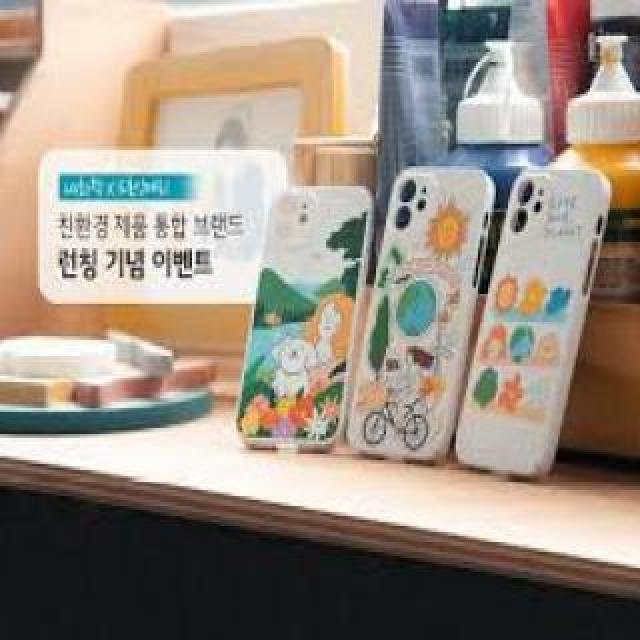smart phone: (245, 162, 352, 462), (376, 142, 472, 468), (490, 170, 592, 475)
